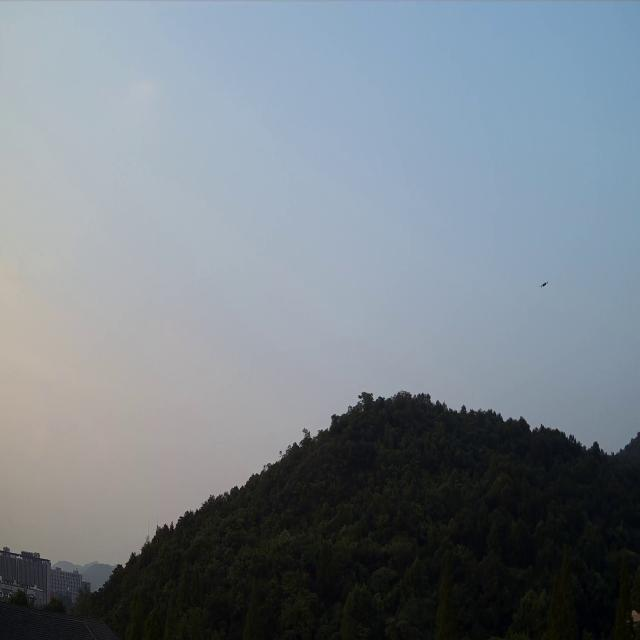UAV: (539, 278, 549, 288)
